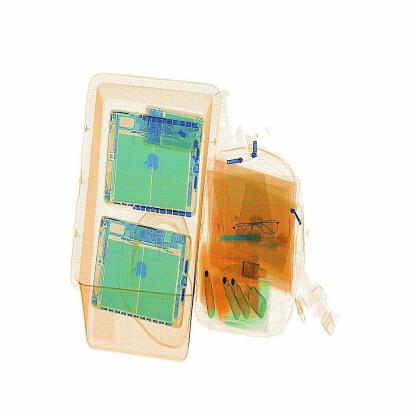pliers: (216, 222, 271, 244)
